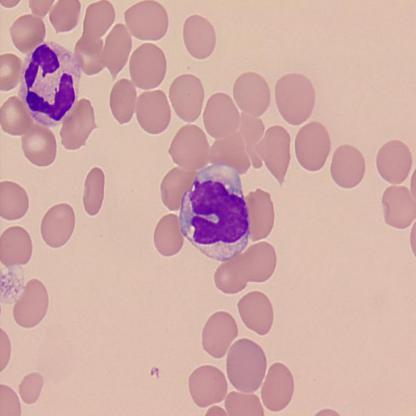Monocyte: (177, 162, 251, 262), (16, 38, 86, 130)
